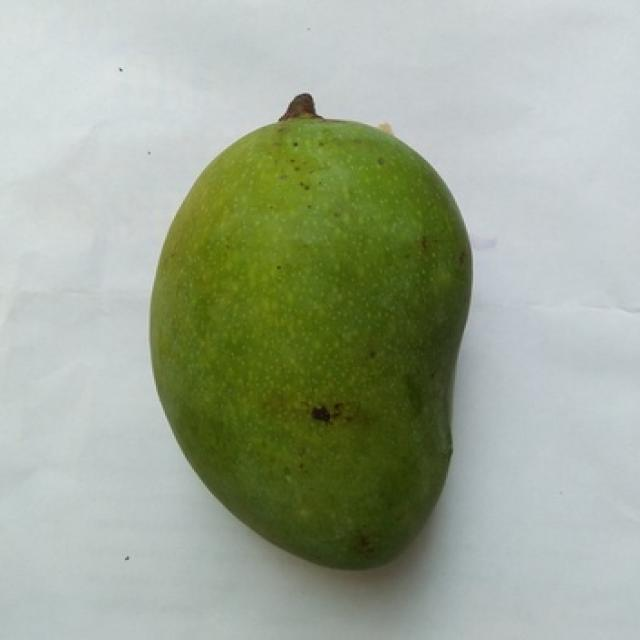Mango: (152, 97, 471, 568)
